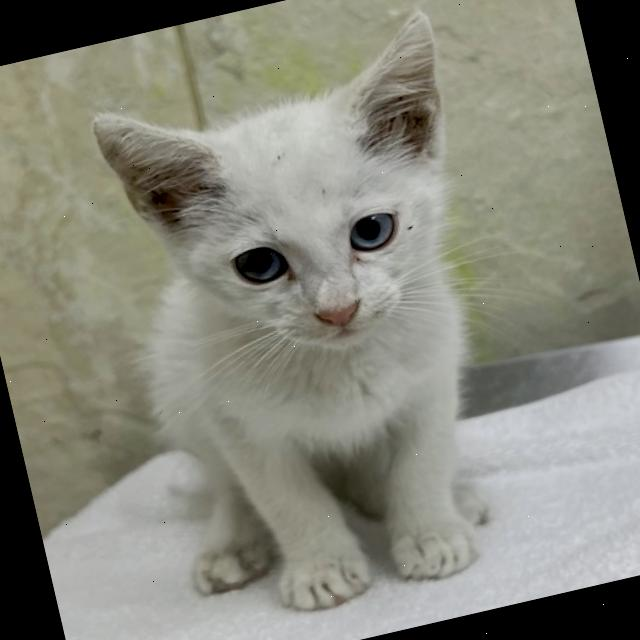domestic_short_hair_cat: (76, 4, 507, 409)
